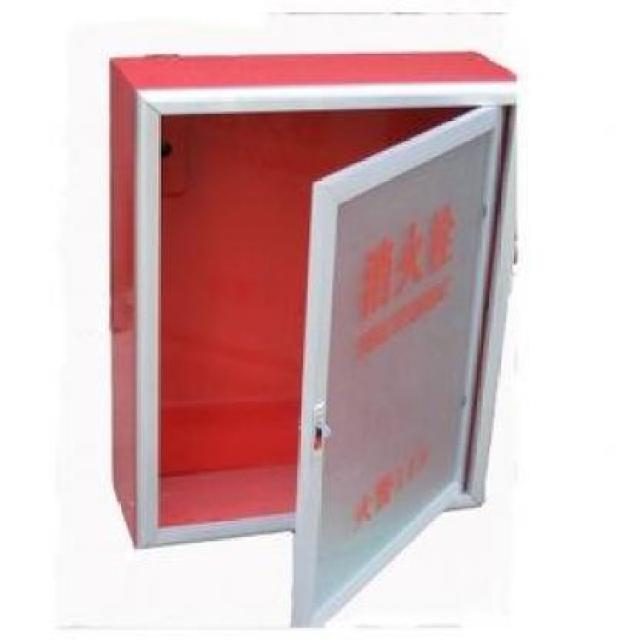firehydrant: (103, 46, 523, 631)
